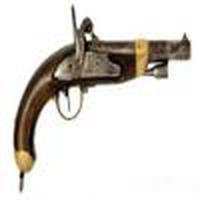gun: (7, 3, 195, 188)
